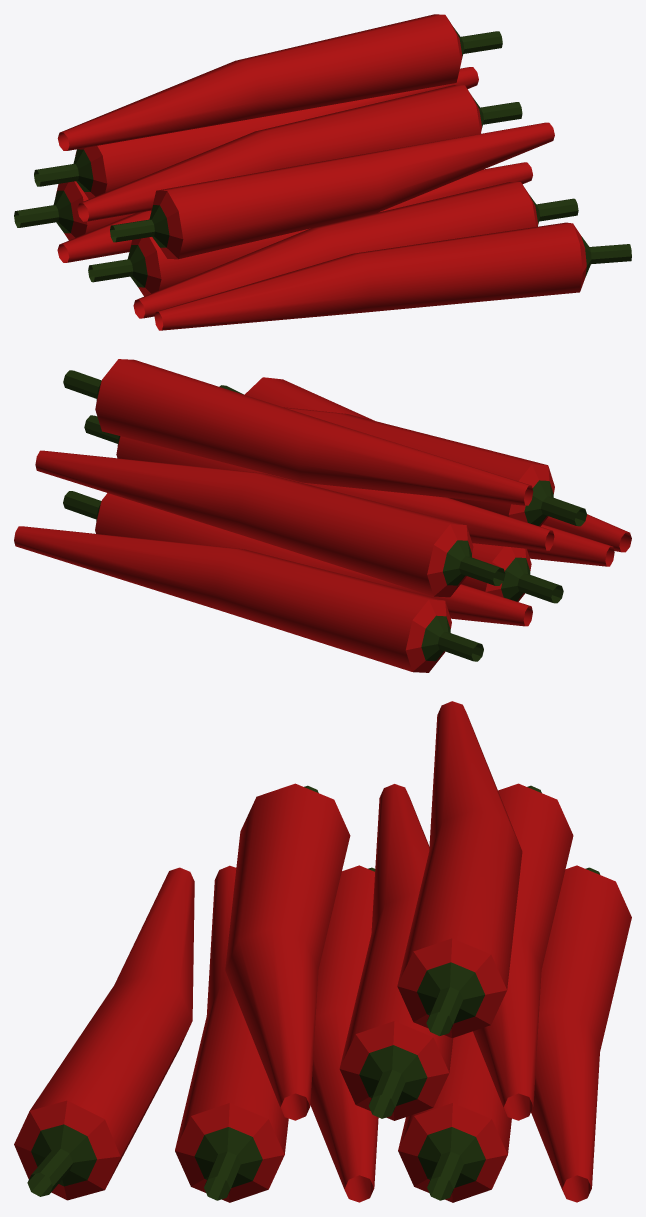
The model's file is Peppers.fbx.
3 views of the same model, one above another, from view 1: azimuth 30°, elevation 25°; view 2: azimuth 150°, elevation 25°; view 3: azimuth 270°, elevation 25° (orthographic). The views are drawn at different scales.
Visible parts, largest first — view 1: Peppers; view 2: Peppers; view 3: Peppers.
Boxes of the visible parts, left/top/right/bottom form: Peppers: left=14, top=14, right=631, bottom=330; Peppers: left=14, top=359, right=631, bottom=672; Peppers: left=14, top=701, right=631, bottom=1202.
Size of the model in its own units: 8.05 by 3.2 by 6.77.
